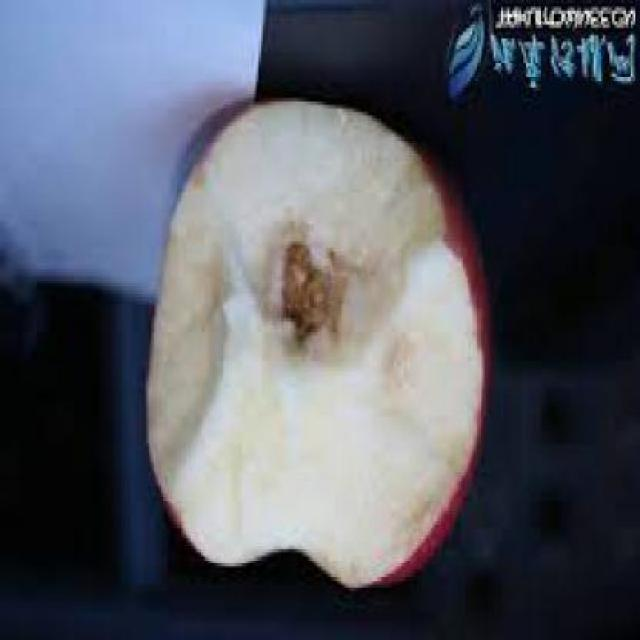BIODEGRADABLE: (145, 100, 492, 594)
